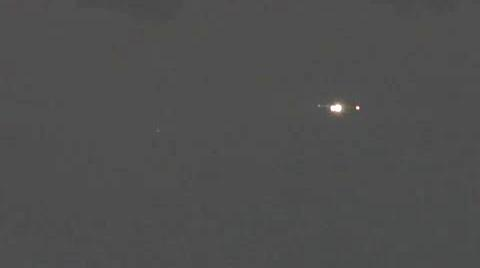Plane: (298, 91, 380, 125)
